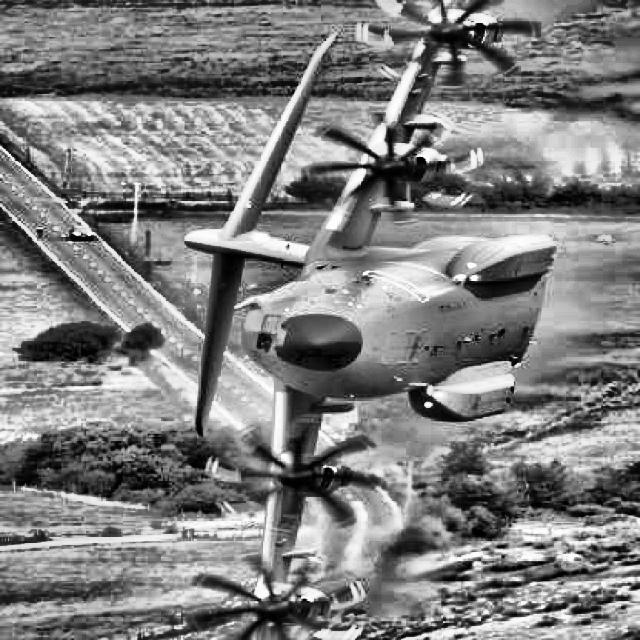A400M: (184, 0, 556, 640)
